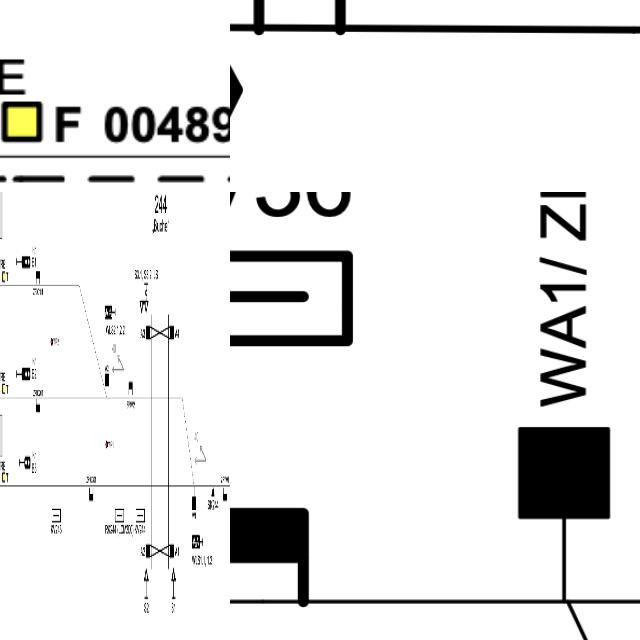radzaehler: (230, 490, 323, 628), (243, 0, 351, 38), (34, 266, 42, 292), (34, 395, 41, 417), (128, 378, 134, 399), (222, 484, 228, 504), (89, 483, 94, 505)
weiche: (504, 417, 626, 640), (103, 368, 110, 407), (190, 482, 197, 514)
